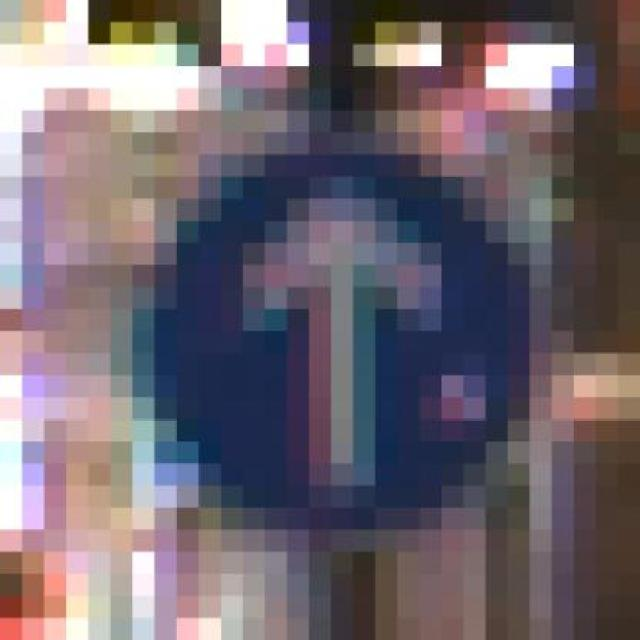Straight Ahead Only: (132, 132, 530, 530)
